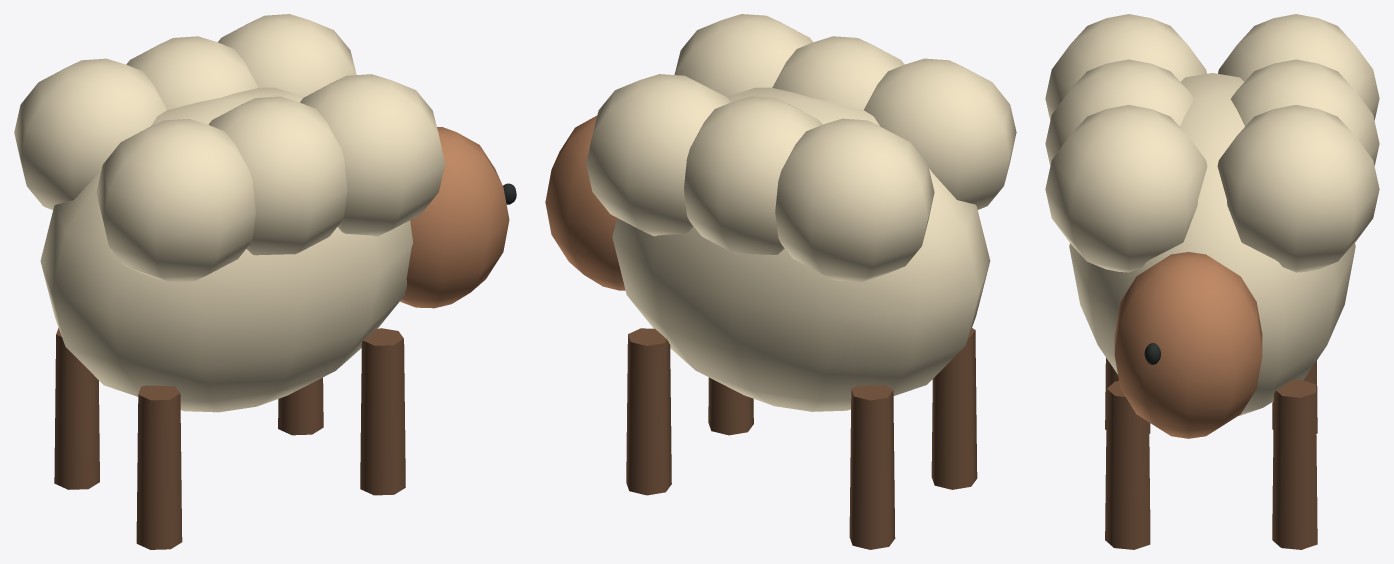
The model's file is sheep.glb.
The picture shows the model from 3 angles, left to right: view 1: azimuth 30°, elevation 25°; view 2: azimuth 150°, elevation 25°; view 3: azimuth 270°, elevation 25°; orthographic projection.
Visible parts, largest first — view 1: batch_sheep_0, batch_sheep_1, batch_sheep_2; view 2: batch_sheep_0, batch_sheep_1, batch_sheep_2; view 3: batch_sheep_0, batch_sheep_2, batch_sheep_1.
Boxes of the visible parts, x1=… form: batch_sheep_0: x1=14, y1=14, x2=445, y2=412; batch_sheep_1: x1=54, y1=328, x2=405, y2=549; batch_sheep_2: x1=400, y1=127, x2=509, y2=308; batch_sheep_0: x1=586, y1=14, x2=1016, y2=411; batch_sheep_1: x1=626, y1=328, x2=977, y2=549; batch_sheep_2: x1=545, y1=115, x2=625, y2=290; batch_sheep_0: x1=1045, y1=14, x2=1379, y2=415; batch_sheep_2: x1=1114, y1=252, x2=1262, y2=438; batch_sheep_1: x1=1105, y1=358, x2=1317, y2=549.
Bounding box in the file's own units: 0.86 × 0.77 × 0.56.
